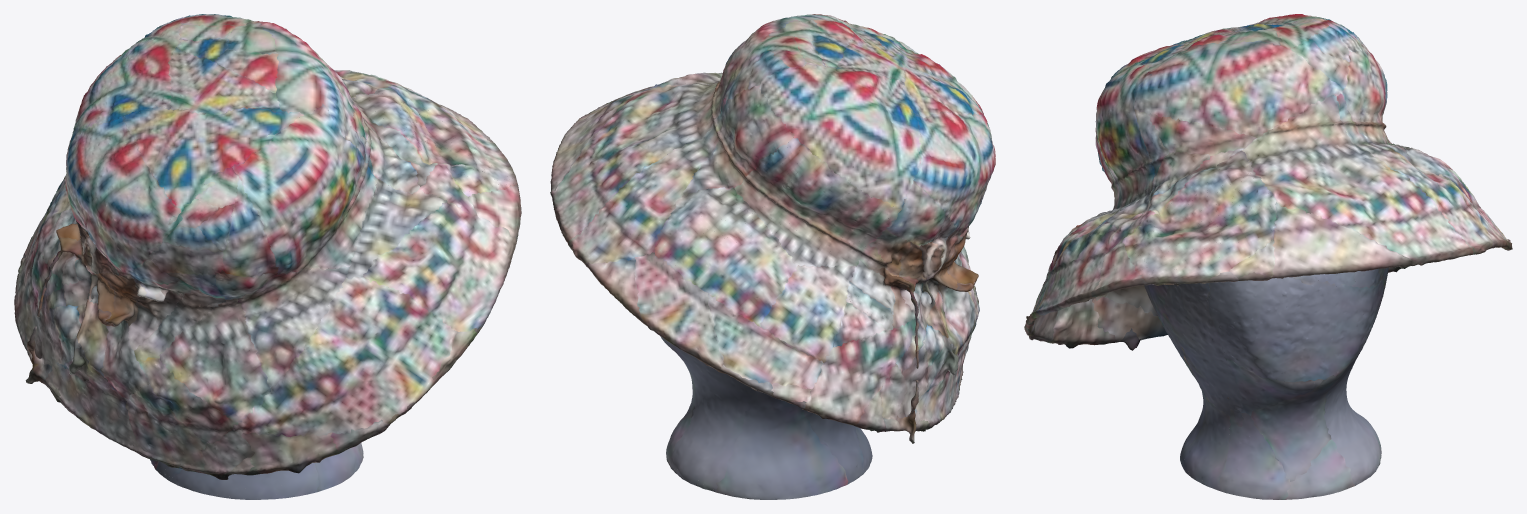
File: bucket_hat.glb
The picture shows the model from 3 angles, left to right: view 1: azimuth 30°, elevation 25°; view 2: azimuth 150°, elevation 25°; view 3: azimuth 270°, elevation 25°; orthographic projection. The views are drawn at different scales.
Visible parts, largest first — view 1: Object_3, Object_2, Object_4, Object_5; view 2: Object_4, Object_2, Object_3, Object_5; view 3: Object_2, Object_5, Object_4, Object_3.
Boxes of the visible parts, bbox=[...] form: Object_3: bbox=[22, 14, 492, 499]; Object_2: bbox=[14, 16, 517, 499]; Object_4: bbox=[14, 47, 521, 499]; Object_5: bbox=[122, 21, 517, 331]; Object_4: bbox=[568, 30, 979, 499]; Object_2: bbox=[551, 19, 995, 499]; Object_3: bbox=[550, 35, 990, 499]; Object_5: bbox=[606, 14, 983, 268]; Object_2: bbox=[1032, 14, 1473, 499]; Object_5: bbox=[1036, 30, 1472, 382]; Object_4: bbox=[1089, 17, 1512, 484]; Object_3: bbox=[1024, 19, 1422, 499].
Bounding box in the file's own units: 0.6267 × 0.6583 × 0.7015.
1 material, 1 textured.
